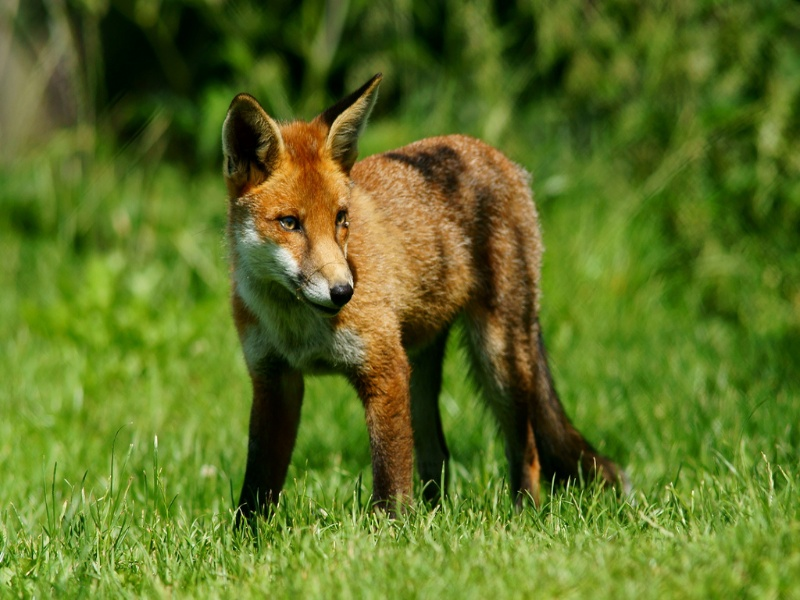fox: (197, 80, 650, 527)
